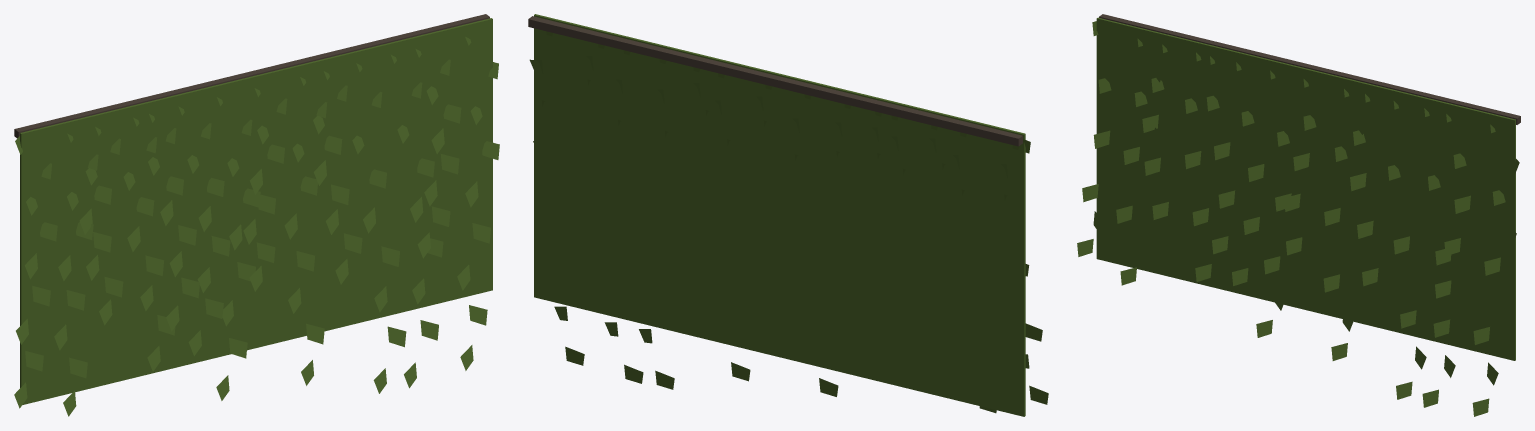
The model's file is city_vine_strip.glb.
3 renders of one model, left to right at view 1: azimuth 30°, elevation 25°; view 2: azimuth 150°, elevation 25°; view 3: azimuth 330°, elevation 25°, orthographic. The views are drawn at different scales.
Parts seen in each view (by area): view 1: CityVineStrip_Far, CityVineStrip_Leaves, CityVineStrip_Runner; view 2: CityVineStrip_Far, CityVineStrip_Runner, CityVineStrip_Leaves; view 3: CityVineStrip_Far, CityVineStrip_Leaves, CityVineStrip_Runner.
Boxes of the visible parts, x1,y1,x2,y2 form: CityVineStrip_Far: (20, 18, 492, 404); CityVineStrip_Leaves: (14, 37, 499, 416); CityVineStrip_Runner: (14, 14, 489, 138); CityVineStrip_Far: (534, 14, 1025, 416); CityVineStrip_Runner: (528, 16, 1022, 146); CityVineStrip_Leaves: (529, 31, 1048, 413); CityVineStrip_Far: (1096, 17, 1515, 360); CityVineStrip_Leaves: (1077, 21, 1519, 416); CityVineStrip_Runner: (1099, 14, 1520, 124).
Size of the model in its own units: 4.17 by 2.76 by 0.24.
